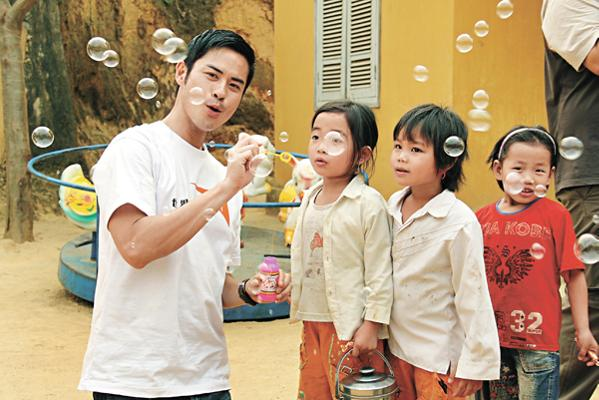person: (76, 29, 293, 400)
